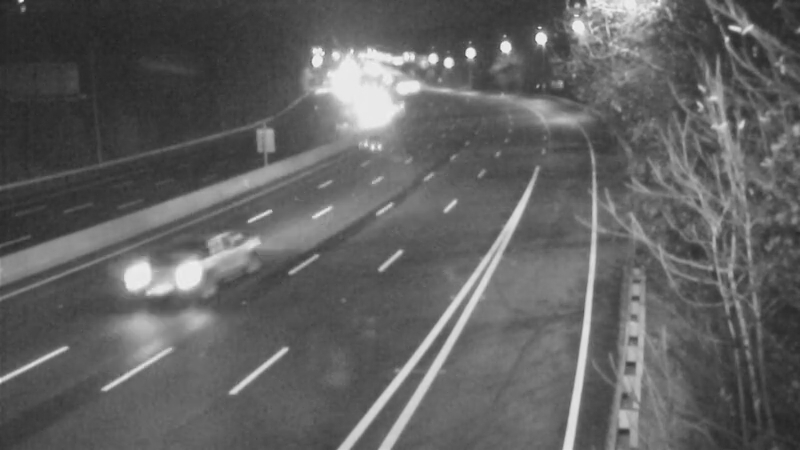vehicle: (129, 230, 209, 310)
